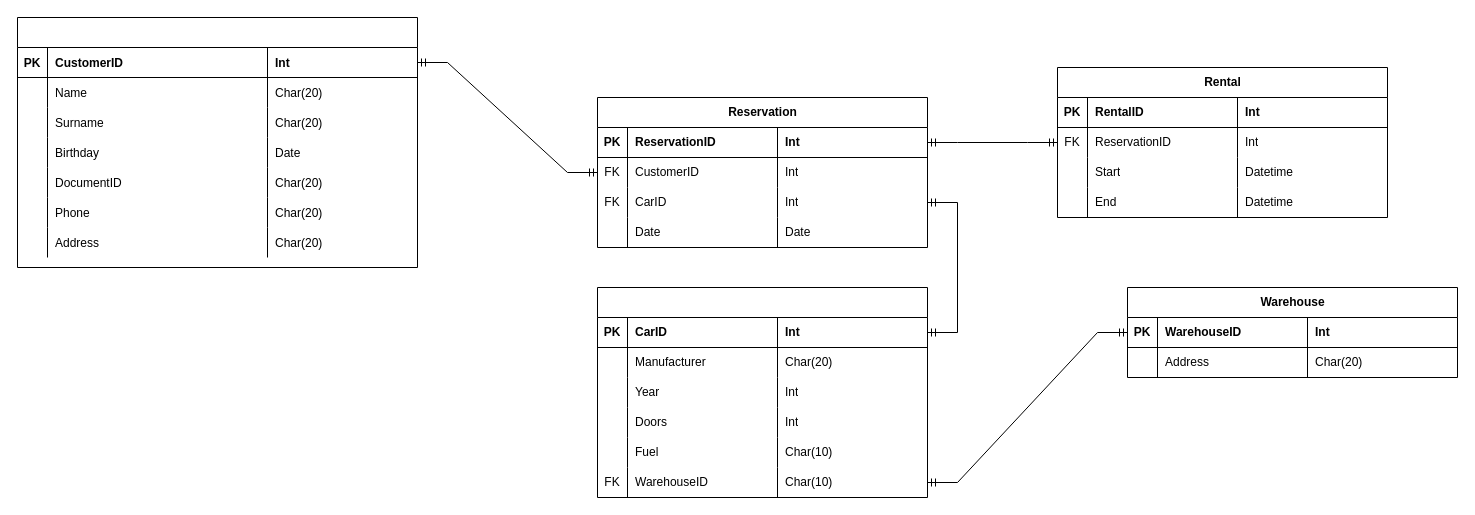
Image size: 1475x515. Some labels were removed from this diagram. The box of each missing label's shape, as (x1, y1, x2, y2) in pixels:
Cars: (596, 286, 928, 498)
Customers: (16, 16, 418, 268)
